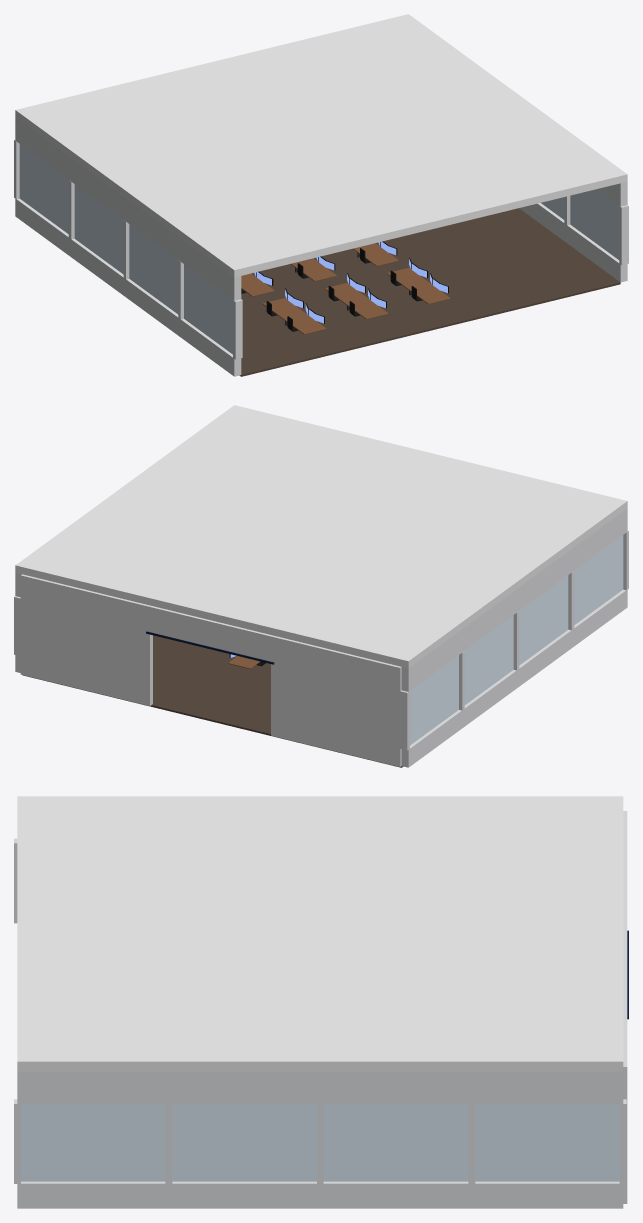
The model's file is alpha.glb.
The picture shows the model from 3 angles, top to bottom: view 1: azimuth 30°, elevation 25°; view 2: azimuth 150°, elevation 25°; view 3: azimuth 270°, elevation 25°; orthographic projection. The views are drawn at different scales.
Parts seen in each view (by area): view 1: alpha_static, alpha_glass, screen_alpha_mons; view 2: alpha_static, alpha_glass; view 3: alpha_static, alpha_glass.
Part boxes in pixels (bbox=[...]): alpha_static: bbox=[14, 14, 628, 376]; alpha_glass: bbox=[19, 144, 619, 354]; screen_alpha_mons: bbox=[254, 241, 447, 323]; alpha_static: bbox=[14, 405, 628, 767]; alpha_glass: bbox=[410, 535, 623, 745]; alpha_static: bbox=[14, 796, 628, 1208]; alpha_glass: bbox=[21, 1104, 619, 1181].
Size of the model in its own units: 22.82 by 6 by 22.34.
